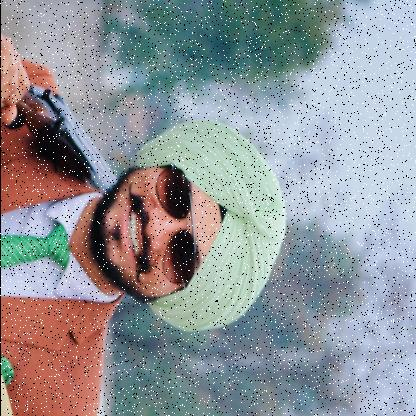rifle: (0, 81, 118, 197)
